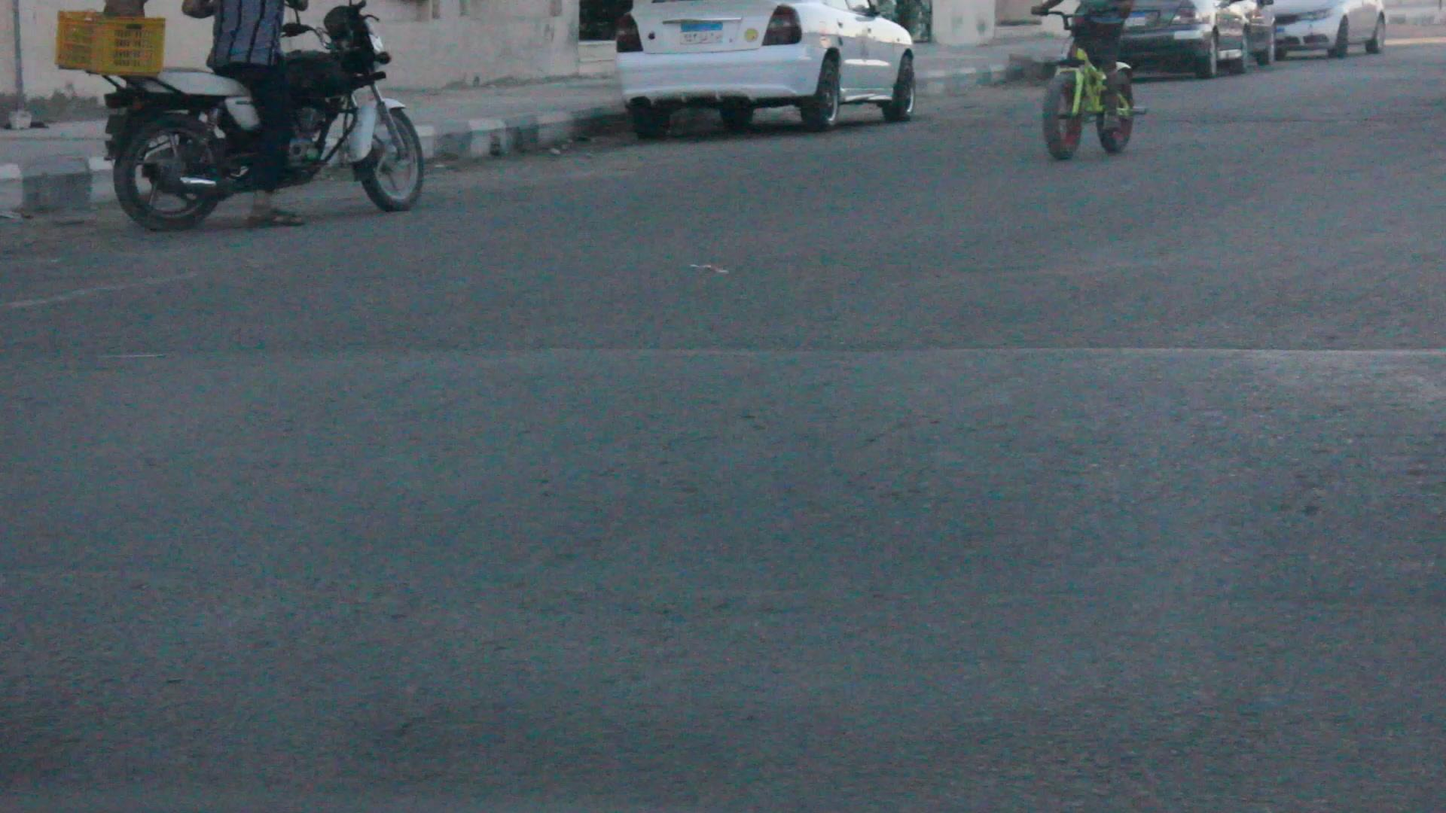Bump: (0, 333, 1445, 578)
